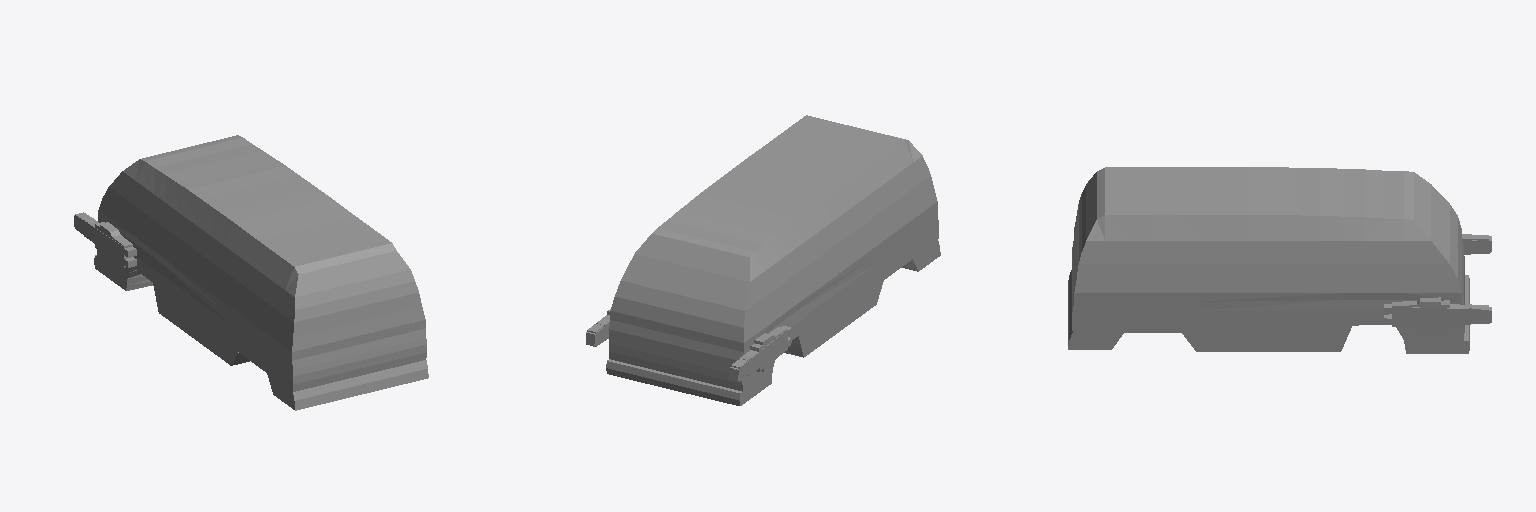
Rendered from kombi.obj.
3 views of the same model, side by side, from view 1: azimuth 30°, elevation 25°; view 2: azimuth 150°, elevation 25°; view 3: azimuth 270°, elevation 25° (orthographic).
Visible parts, largest first — view 1: kombi_Cube; view 2: kombi_Cube; view 3: kombi_Cube.
Boxes of the visible parts, x1=… form: kombi_Cube: x1=74, y1=135, x2=428, y2=410; kombi_Cube: x1=586, y1=115, x2=940, y2=405; kombi_Cube: x1=1068, y1=167, x2=1491, y2=353.
Size of the model in its own units: 6.14 by 5 by 14.74.